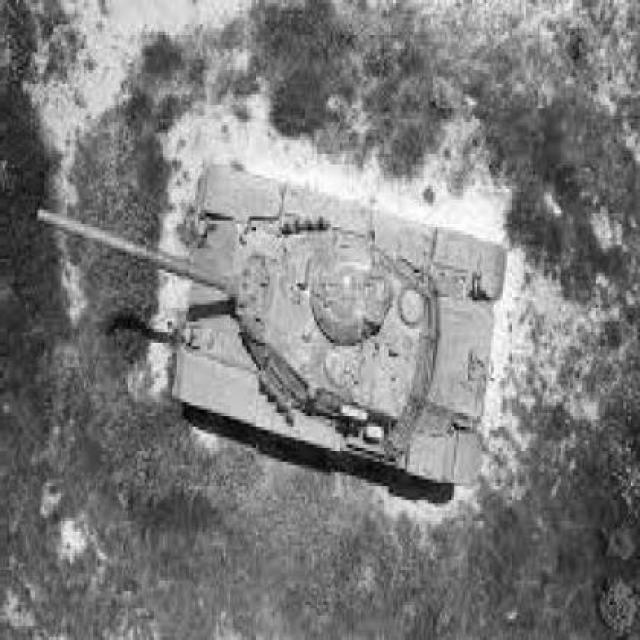tank: (35, 129, 507, 488)
